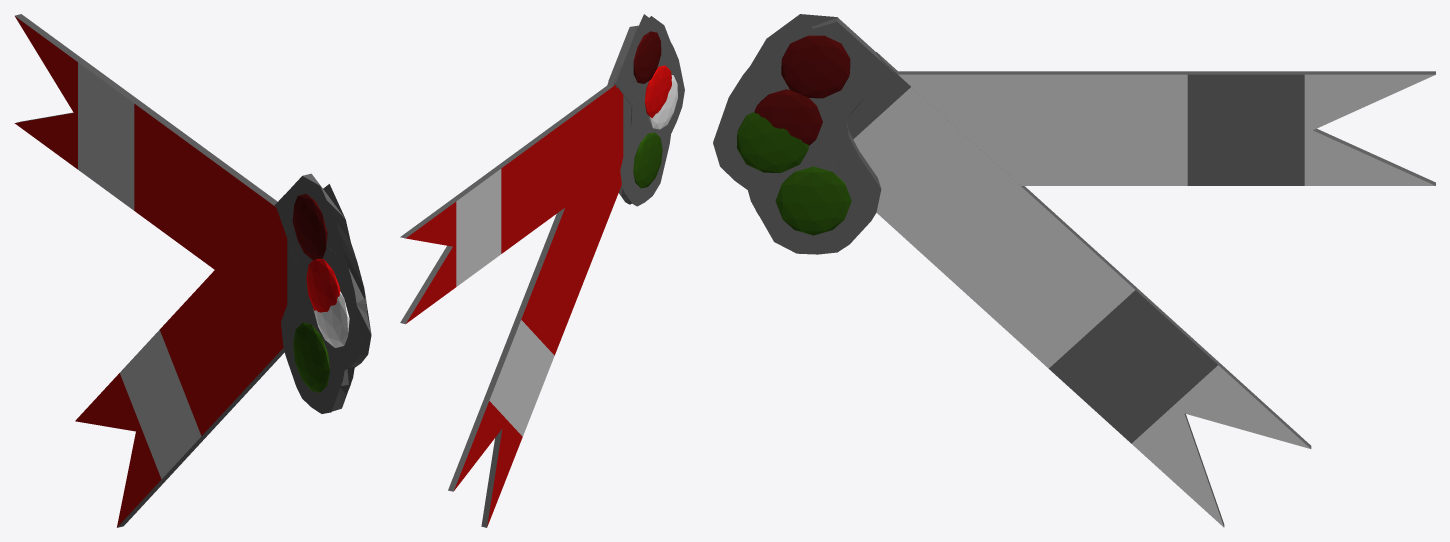
Rendered from distant-red-arms.dae.
3 views of the same model, side by side, from view 1: azimuth 30°, elevation 25°; view 2: azimuth 150°, elevation 25°; view 3: azimuth 270°, elevation 25° (orthographic). The views are drawn at different scales.
Parts seen in each view (by area): view 1: Cube_010, Cube_015, Cube_012, Cube_014, Icosphere_002, Icosphere_007, Icosphere_003, Icosphere_008; view 2: Cube_010, Cube_015, Cube_012, Cube_014, Icosphere_002, Icosphere_007, Icosphere_003, Icosphere_008; view 3: Cube_015, Cube_010, Cube_014, Cube_012, Icosphere_001, Icosphere_004, Icosphere_005, Icosphere_006.
Part boxes in pixels (bbox=[...]): Cube_010: bbox=[14, 14, 296, 318]; Cube_015: bbox=[75, 195, 284, 527]; Cube_012: bbox=[281, 240, 354, 413]; Cube_014: bbox=[275, 173, 371, 370]; Icosphere_002: bbox=[293, 322, 329, 392]; Icosphere_007: bbox=[292, 193, 327, 260]; Icosphere_003: bbox=[306, 259, 340, 312]; Icosphere_008: bbox=[313, 291, 349, 347]; Cube_010: bbox=[400, 85, 631, 324]; Cube_015: bbox=[448, 66, 621, 527]; Cube_012: bbox=[619, 51, 676, 206]; Cube_014: bbox=[608, 14, 684, 132]; Icosphere_002: bbox=[633, 132, 662, 188]; Icosphere_007: bbox=[633, 31, 661, 83]; Icosphere_003: bbox=[644, 65, 671, 118]; Icosphere_008: bbox=[649, 75, 677, 129]; Cube_015: bbox=[847, 52, 1311, 527]; Cube_010: bbox=[898, 71, 1435, 185]; Cube_014: bbox=[713, 14, 892, 193]; Cube_012: bbox=[748, 122, 881, 254]; Icosphere_001: bbox=[775, 166, 851, 235]; Icosphere_004: bbox=[781, 35, 850, 98]; Icosphere_005: bbox=[736, 112, 808, 172]; Icosphere_006: bbox=[754, 89, 822, 145].
Bounding box in the file's own units: 0.0465 × 1.42 × 1.11.
